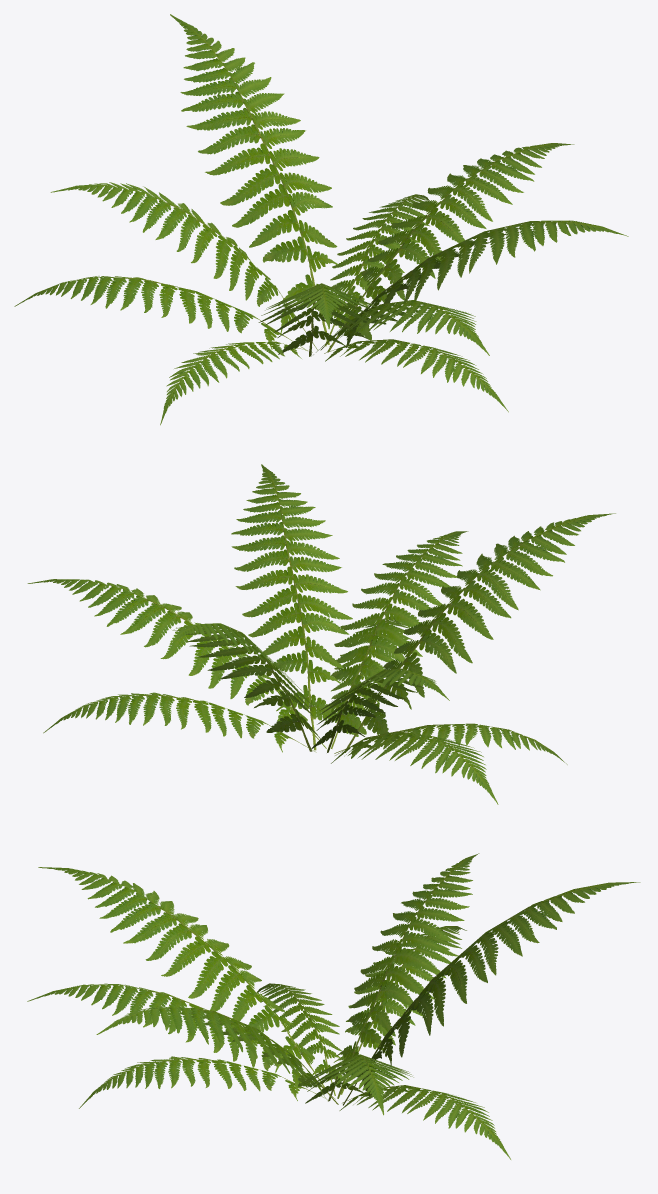
Rendered from Elecho.fbx.
The picture shows the model from 3 angles, top to bottom: view 1: azimuth 30°, elevation 25°; view 2: azimuth 150°, elevation 25°; view 3: azimuth 270°, elevation 25°; orthographic projection.
Visible parts, largest first — view 1: fern01_0; view 2: fern01_0; view 3: fern01_0.
Part boxes in pixels (bbox=[...]): fern01_0: bbox=[14, 14, 628, 425]; fern01_0: bbox=[27, 464, 615, 804]; fern01_0: bbox=[27, 853, 640, 1159].
Size of the model in its own units: 201 by 85.87 by 210.
